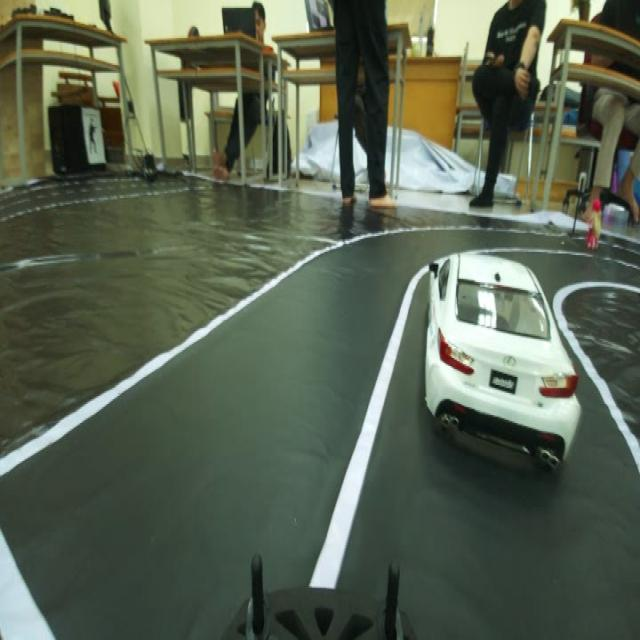car: (417, 241, 579, 470)
